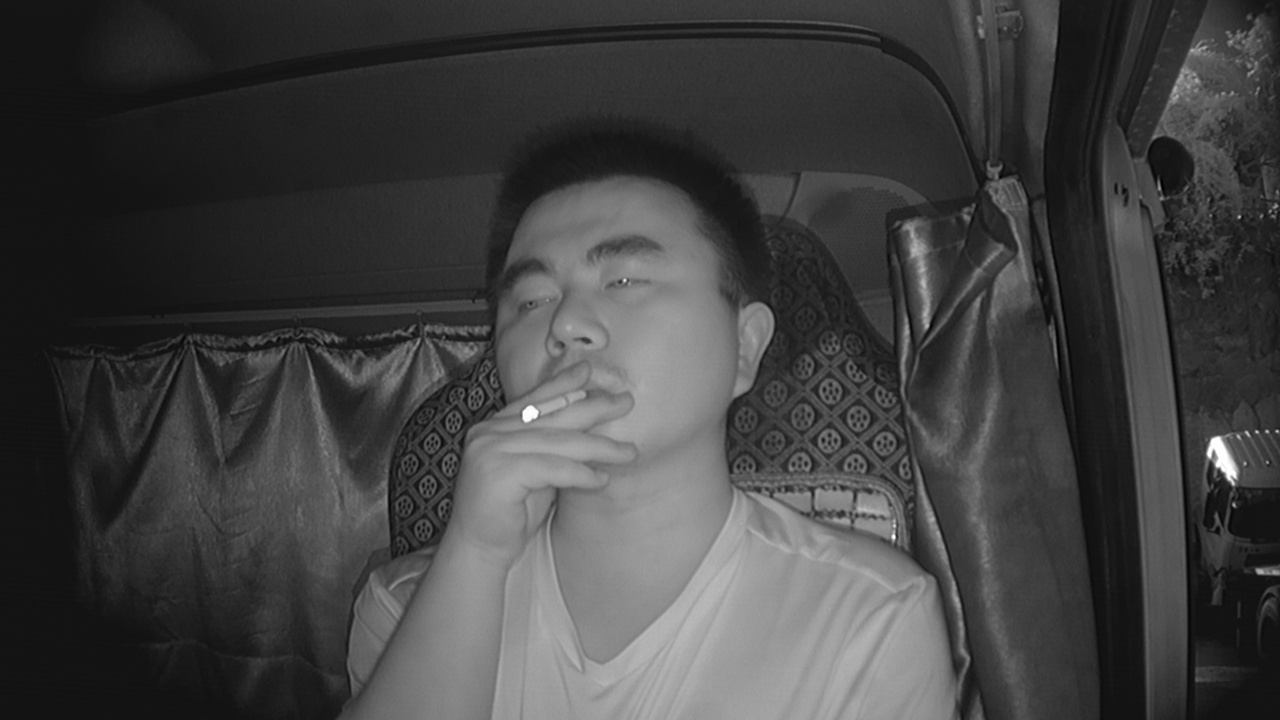hand: (464, 371, 645, 530)
